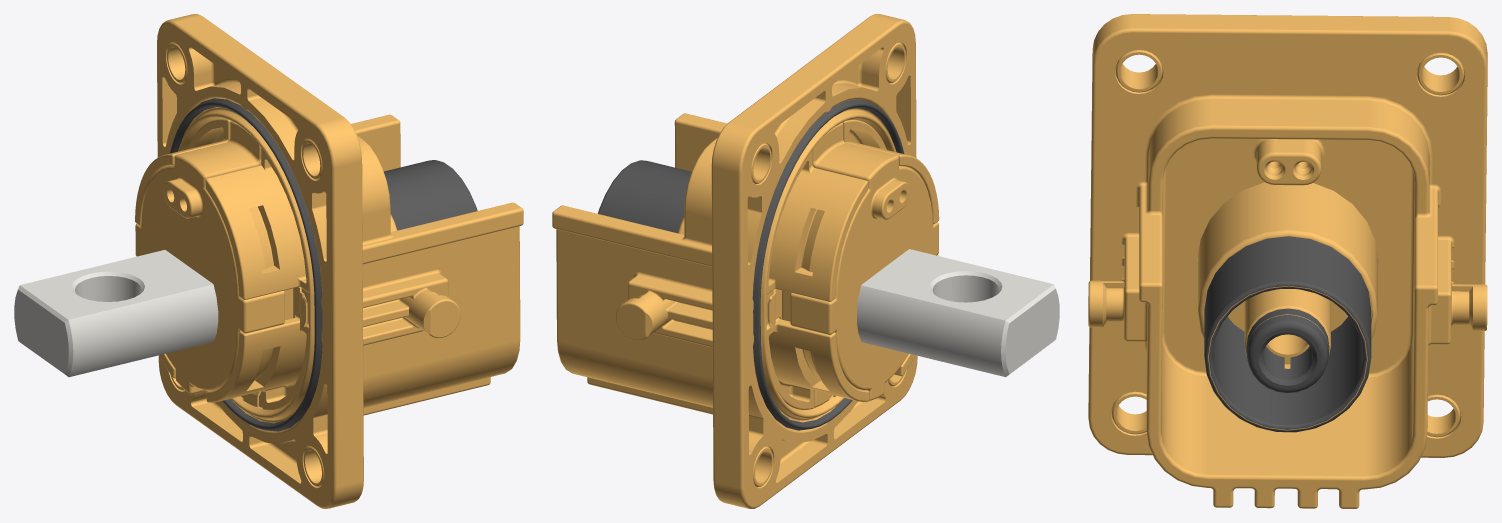
Rendered from EVH1-H1ZJ-WB.glb.
3 renders of one model, left to right at view 1: azimuth 30°, elevation 25°; view 2: azimuth 150°, elevation 25°; view 3: azimuth 270°, elevation 25°, orthographic. The views are drawn at different scales.
Visible parts, largest first — view 1: EVH1-H1ZJ-WB v1; view 2: EVH1-H1ZJ-WB v1; view 3: EVH1-H1ZJ-WB v1.
Boxes of the visible parts, x1,y1,x2,y2 form: EVH1-H1ZJ-WB v1: (14,14,523,508); EVH1-H1ZJ-WB v1: (552,14,1059,508); EVH1-H1ZJ-WB v1: (1088,14,1487,508).
Bounding box in the file's own units: 7.47 × 6.59 × 5.55.
